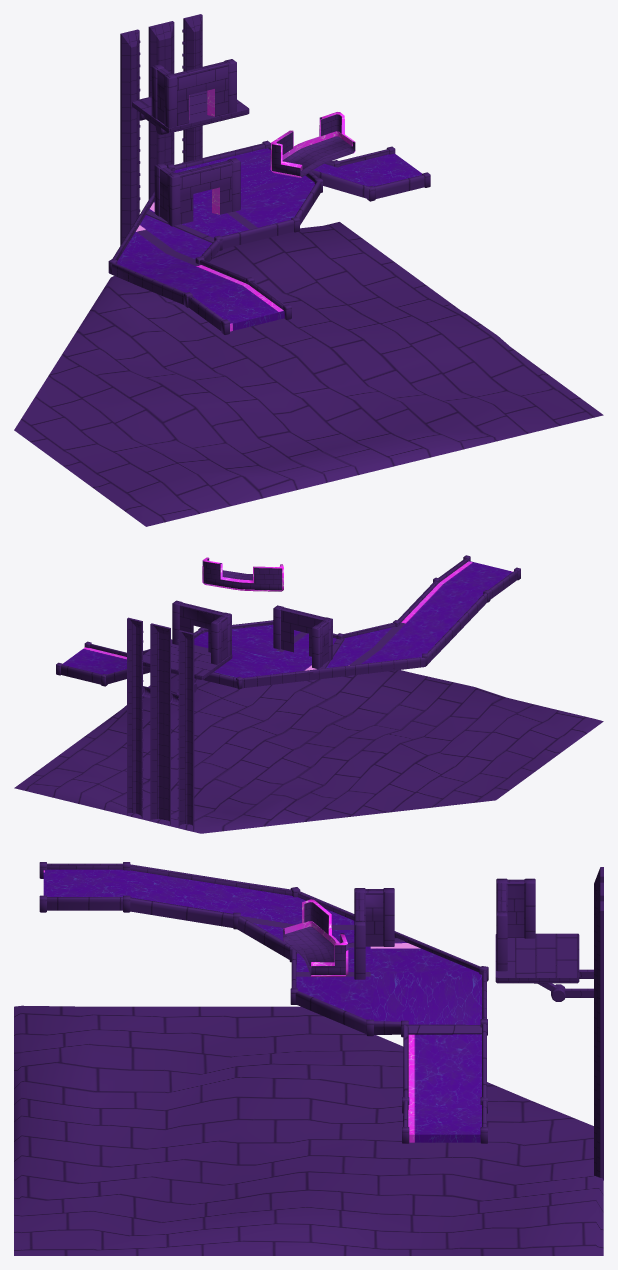
The model's file is Forest.fbx.
3 views of the same model, one above another, from view 1: azimuth 30°, elevation 25°; view 2: azimuth 150°, elevation 25°; view 3: azimuth 270°, elevation 25° (orthographic). The views are drawn at different scales.
Visible parts, largest first — view 1: Forest_floor_moss, Forest_floor, Forest_moving_platform, Forest_hiding, Forest_balcony; view 2: Forest_floor_moss, Forest_floor, Forest_moving_platform, Forest_hiding, Forest_balcony; view 3: Forest_floor_moss, Forest_floor, Forest_moving_platform, Forest_balcony, Forest_hiding.
Part boxes in pixels (x1,y1,x2,y2): Forest_floor_moss: (14,222,603,526); Forest_floor: (108,140,430,334); Forest_moving_platform: (120,14,249,245); Forest_hiding: (154,158,240,226); Forest_balcony: (270,112,355,177); Forest_floor_moss: (14,670,603,833); Forest_floor: (56,555,520,689); Forest_moving_platform: (127,600,232,831); Forest_hiding: (273,605,332,668); Forest_balcony: (202,557,283,591); Forest_floor_moss: (14,1005,603,1255); Forest_floor: (39,862,488,1143); Forest_moving_platform: (495,867,603,1180); Forest_balcony: (282,899,348,976); Forest_hiding: (354,888,394,979).
Bounding box in the file's own units: 1565 × 812 × 1563.
